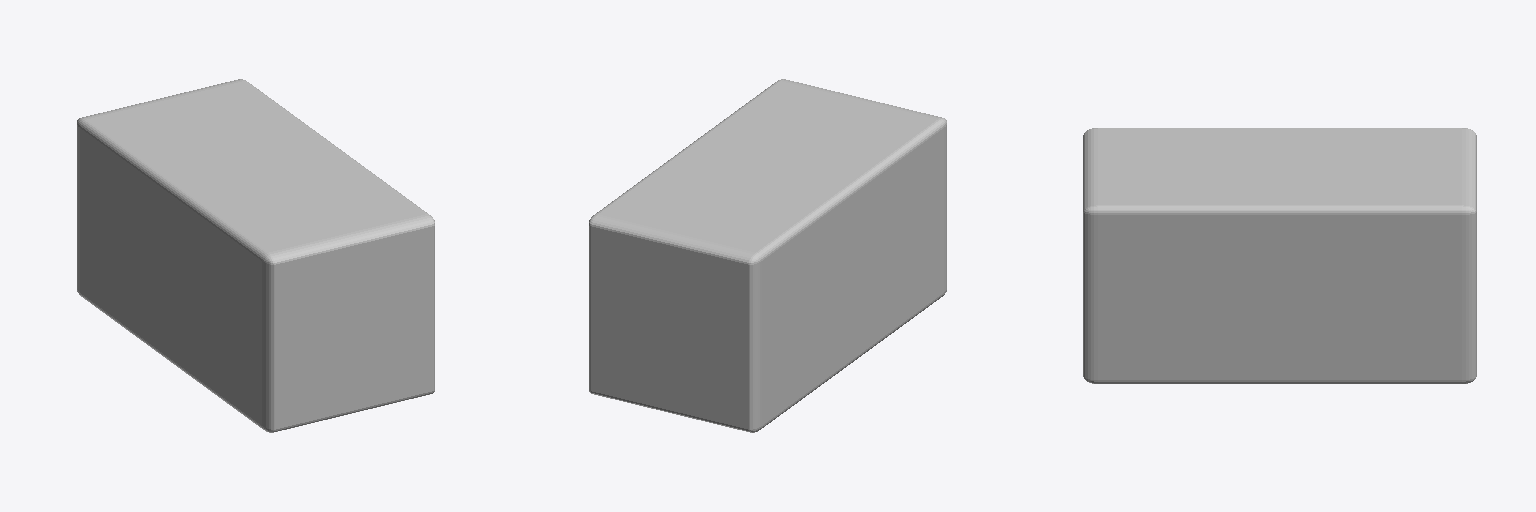
3 renders of one model, left to right at view 1: azimuth 30°, elevation 25°; view 2: azimuth 150°, elevation 25°; view 3: azimuth 270°, elevation 25°, orthographic.
Visible parts, largest first — view 1: block; view 2: block; view 3: block.
Part boxes in pixels (bbox=[...]): block: bbox=[77, 79, 434, 432]; block: bbox=[589, 79, 946, 432]; block: bbox=[1083, 128, 1476, 383].
Bounding box in the file's own units: 1 × 1 × 2.